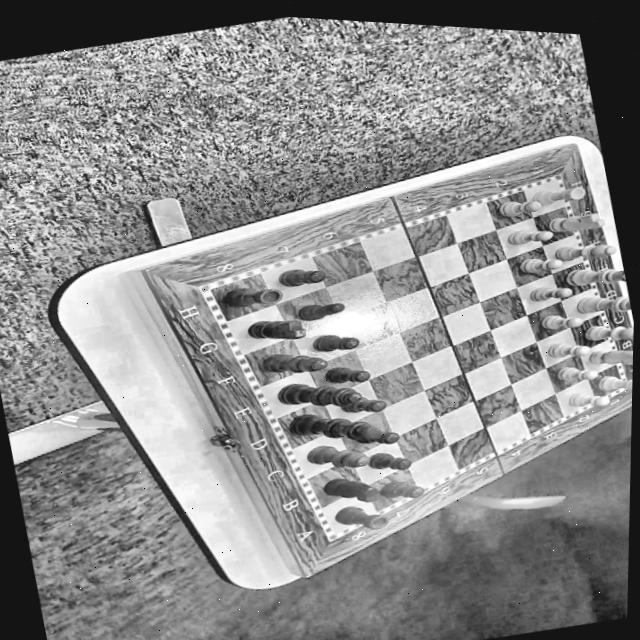chessboard: (211, 179, 622, 535)
